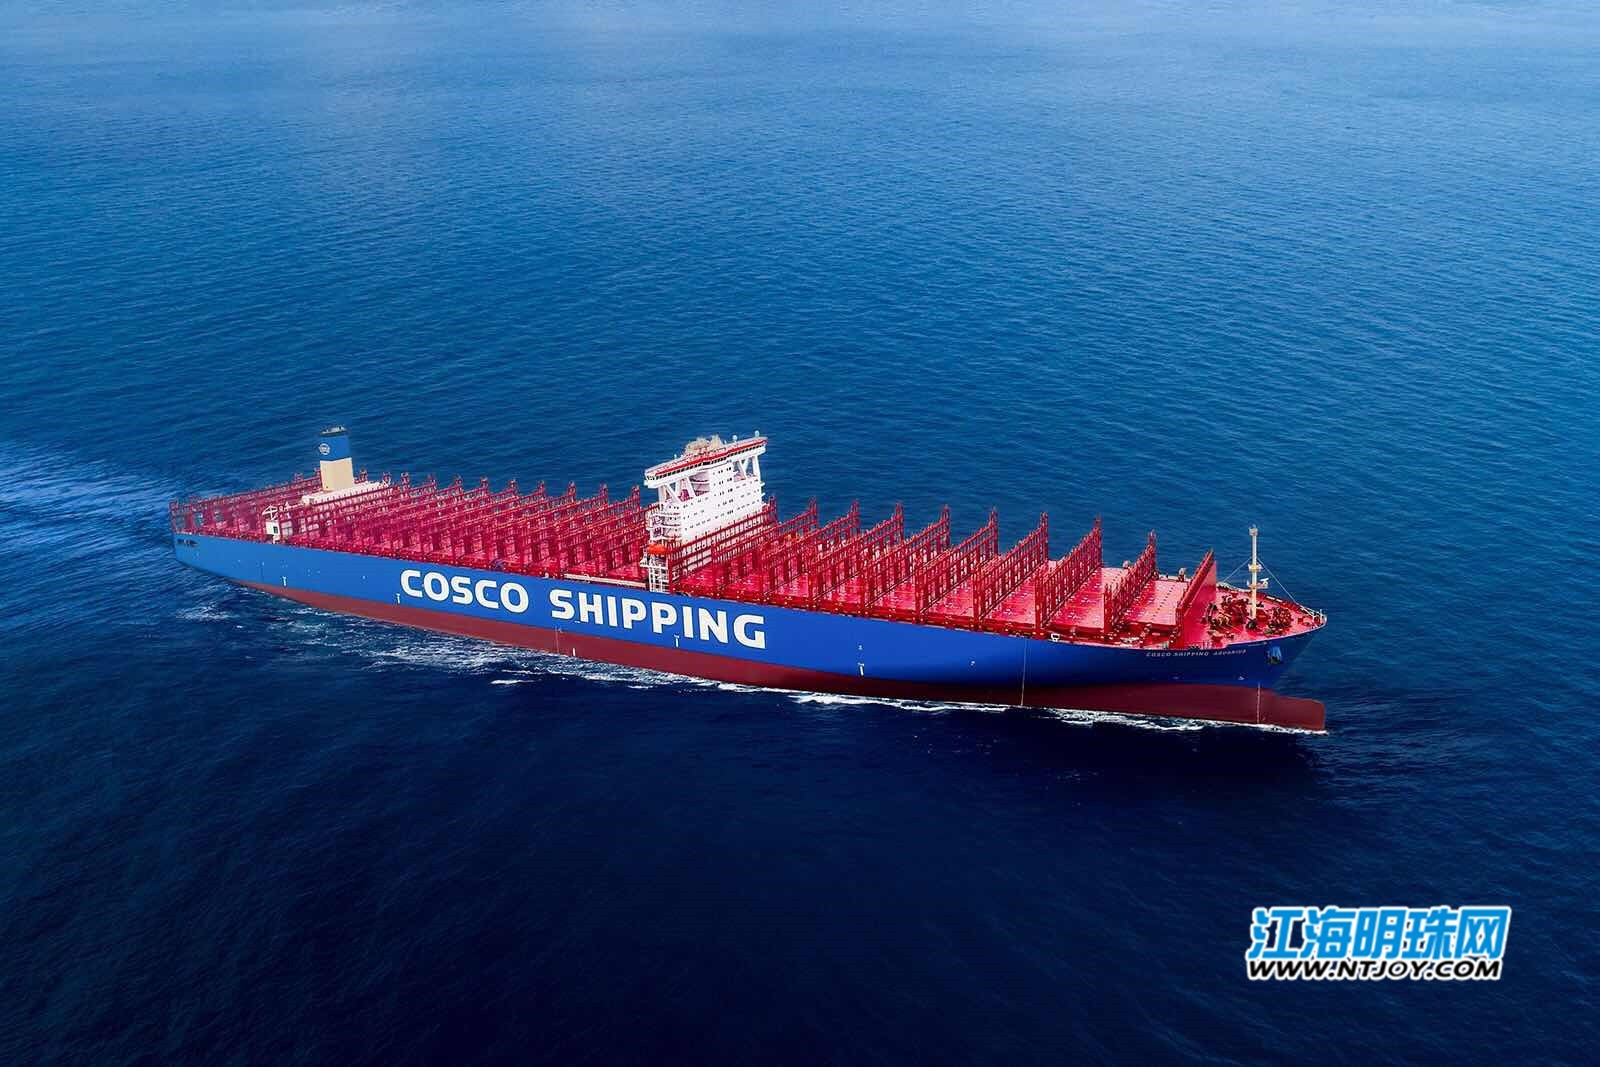Cargoship: (157, 417, 1344, 741)
